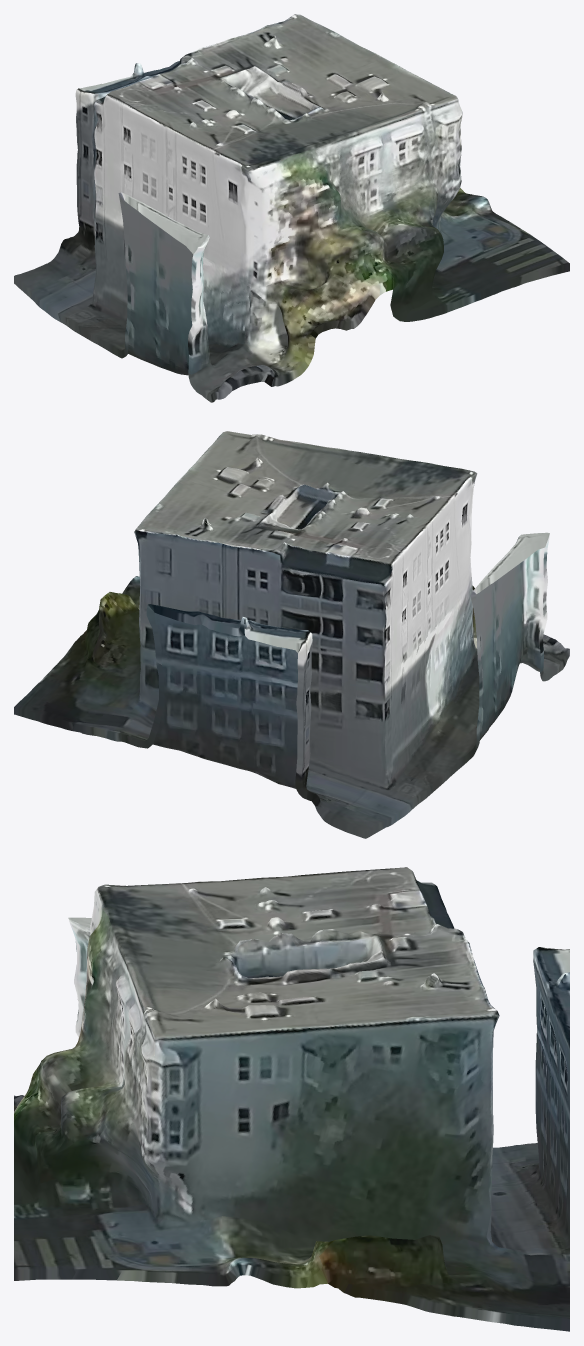
File: z20-167748-405195-h0-yup-uvflip-v3-world.glb
3 views of the same model, one above another, from view 1: azimuth 30°, elevation 25°; view 2: azimuth 150°, elevation 25°; view 3: azimuth 270°, elevation 25° (orthographic). The views are drawn at different scales.
Size of the model in its own units: 30.16 by 19.6 by 30.32.
1 material, 1 textured.
